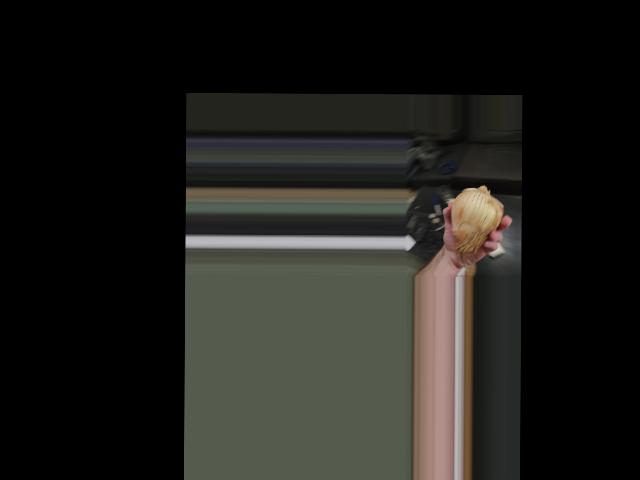onion: (449, 186, 502, 250)
